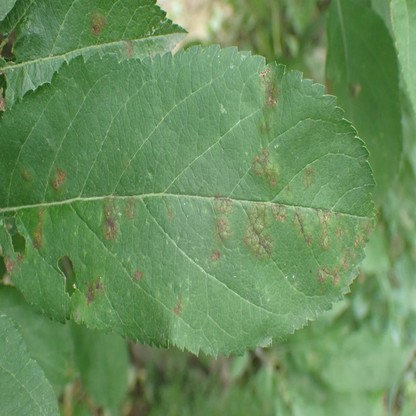scab: (245, 203, 274, 261), (73, 270, 105, 320), (258, 67, 280, 137), (251, 149, 280, 188), (292, 206, 314, 249), (101, 194, 120, 242), (32, 205, 47, 251), (314, 208, 330, 250), (212, 215, 231, 242), (355, 220, 372, 246), (89, 12, 107, 35), (51, 167, 67, 189), (341, 247, 357, 269), (171, 292, 186, 315), (214, 196, 232, 214), (5, 254, 22, 272), (271, 203, 287, 221), (302, 166, 315, 188), (123, 38, 134, 63), (125, 198, 136, 221), (350, 78, 362, 97), (334, 224, 349, 239), (317, 264, 328, 284), (324, 74, 332, 96), (285, 183, 296, 199), (332, 265, 340, 287), (209, 250, 221, 264), (131, 270, 143, 282), (166, 207, 175, 222), (122, 160, 131, 175), (21, 170, 31, 183), (334, 212, 342, 221)
